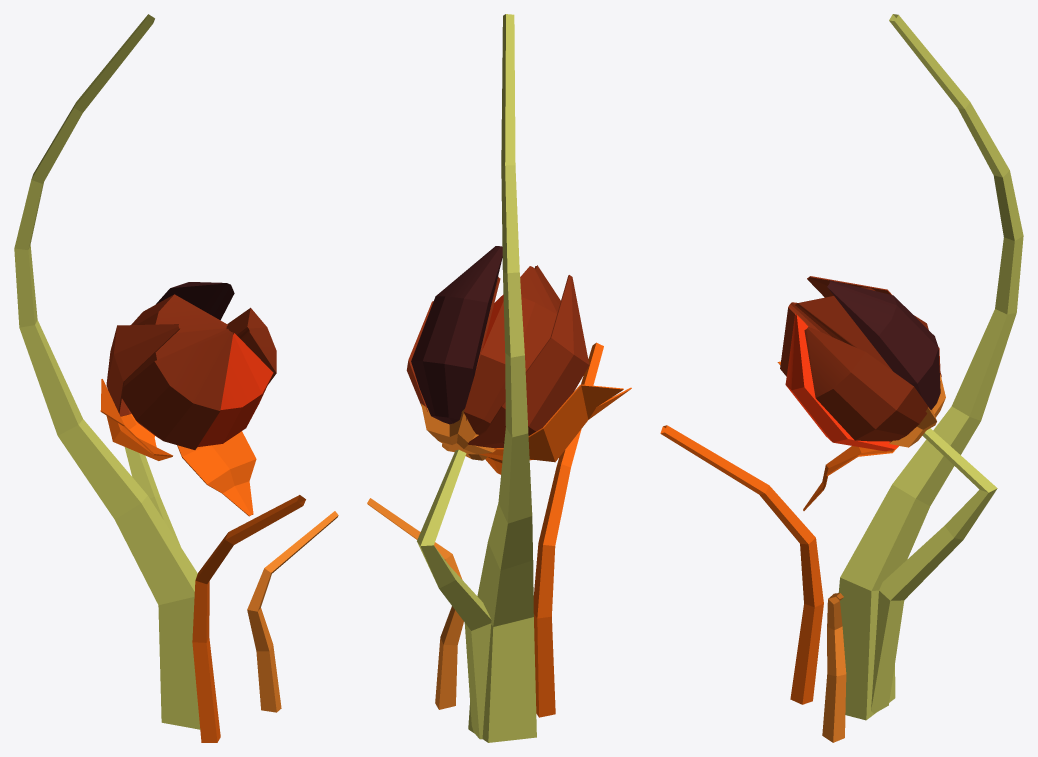
Rendered from st1_flower5.fbx.
3 renders of one model, left to right at view 1: azimuth 30°, elevation 25°; view 2: azimuth 150°, elevation 25°; view 3: azimuth 270°, elevation 25°, orthographic. The views are drawn at different scales.
Visible parts, largest first — view 1: Circle_006; view 2: Circle_006; view 3: Circle_006.
Part boxes in pixels (x1,y1,x2,y2): Circle_006: (14,14,338,742); Circle_006: (367,14,631,742); Circle_006: (660,14,1023,742).
Size of the model in its own units: 157 by 439 by 211.
